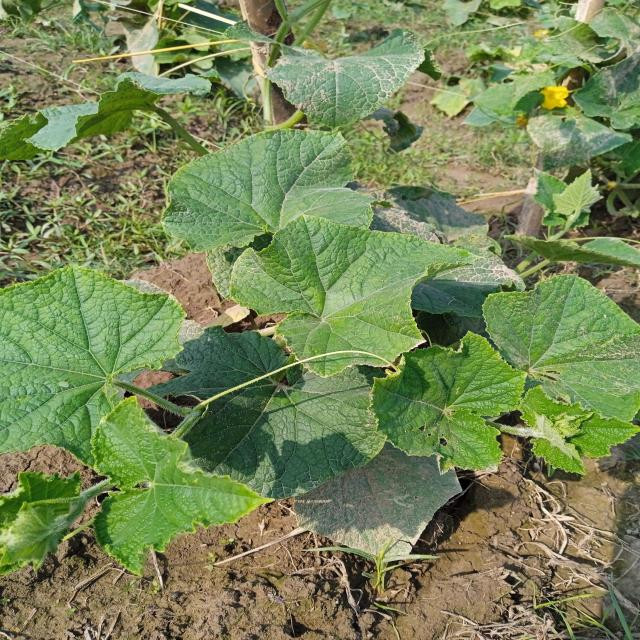cucumber_healthy: (226, 209, 485, 377), (0, 257, 192, 462), (479, 263, 640, 473), (159, 120, 374, 245), (375, 326, 529, 496), (254, 30, 445, 130)
